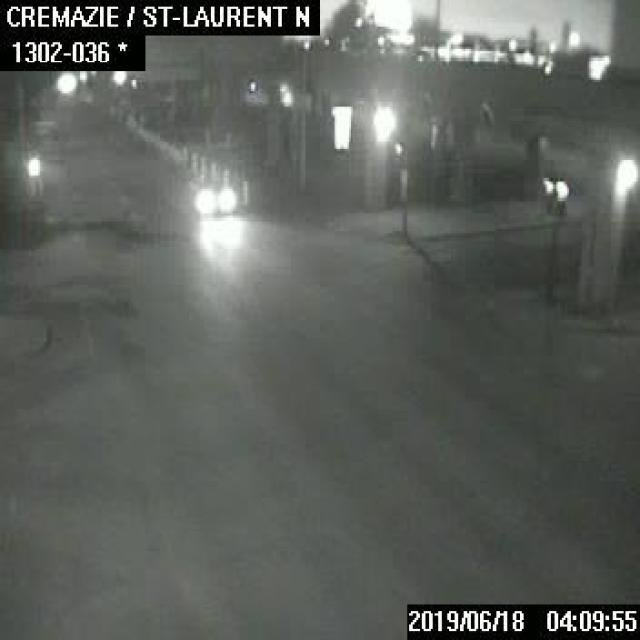construction: (240, 169, 249, 204), (190, 150, 196, 172), (200, 156, 206, 178), (210, 158, 216, 180), (180, 144, 186, 166), (222, 165, 229, 182)
vehicle: (188, 175, 236, 214)
